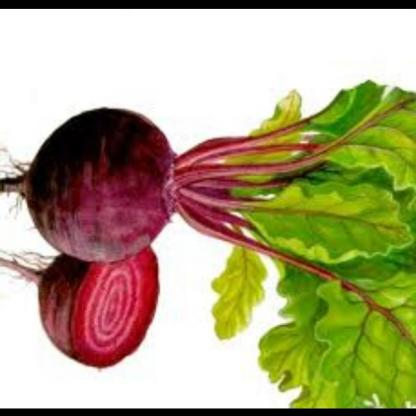beet: (7, 97, 208, 266), (0, 231, 168, 377)
